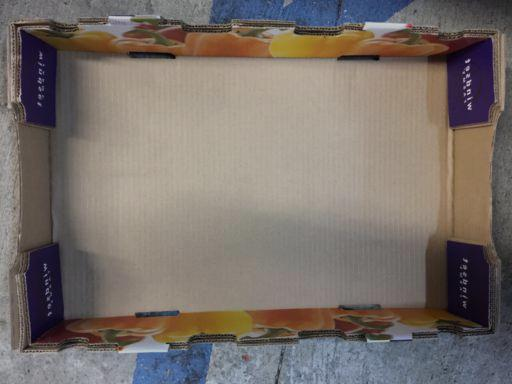cardboard: (0, 20, 512, 355)
